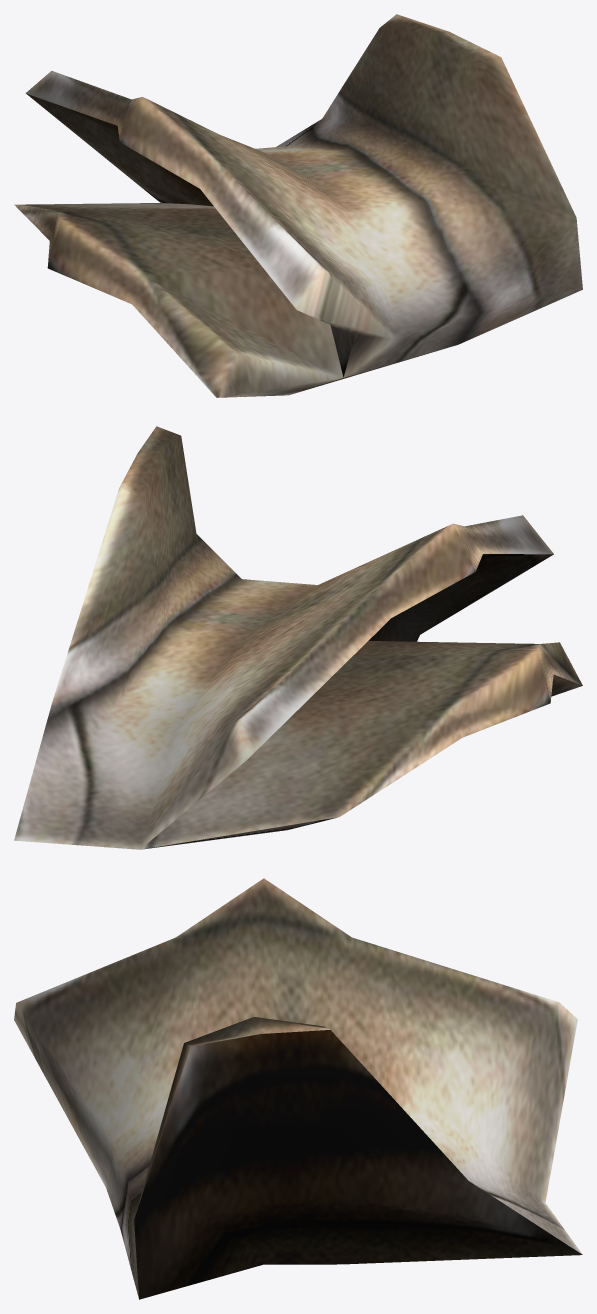
The model's file is shoulderL02.FBX.
3 views of the same model, one above another, from view 1: azimuth 30°, elevation 25°; view 2: azimuth 150°, elevation 25°; view 3: azimuth 270°, elevation 25° (orthographic). The views are drawn at different scales.
Visible parts, largest first — view 1: shoulderL02; view 2: shoulderL02; view 3: shoulderL02.
Part boxes in pixels (<box>): shoulderL02: <box>14,14,582,397</box>; shoulderL02: <box>14,426,582,849</box>; shoulderL02: <box>14,878,582,1299</box>.
Bounding box in the file's own units: 0.4042 × 0.4241 × 0.2225.
